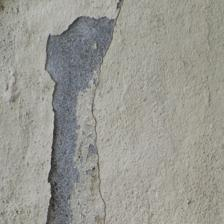Crack: (0, 0, 145, 174), (7, 2, 119, 112)
